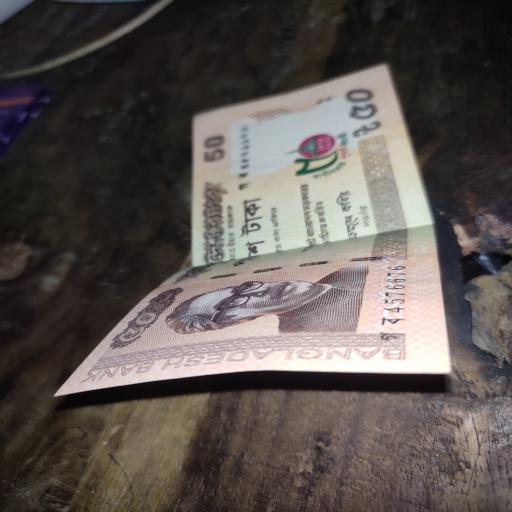50taka: (62, 60, 447, 386)
